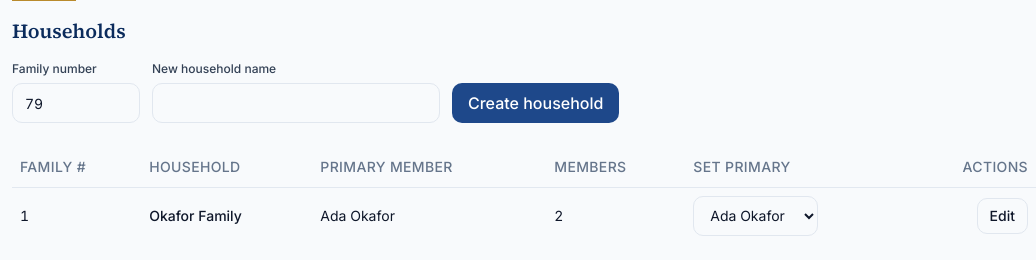
Test: HouseholdsPage › leaves the row unchanged when the edit is cancelled
Click the button with aria-label "edit okafor family". click: coordinates (1002, 216)
box: 977,198 -> 1028,234
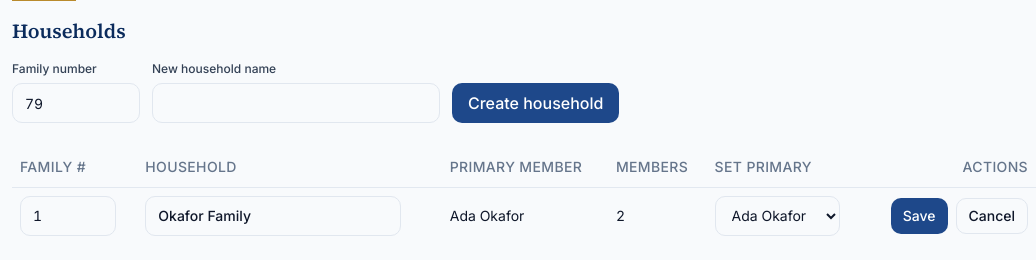
Replace the text in the field named "household name for okafor family" with "Typo". click: coordinates (273, 216)
box: 145,196 -> 401,236
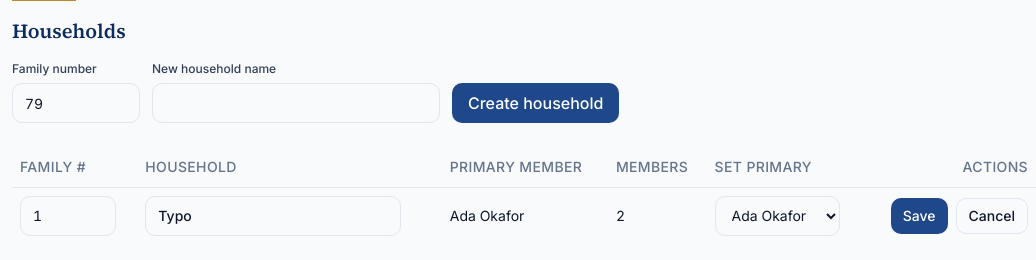
Click the button "Cancel". click: coordinates (992, 216)
box: 956,198 -> 1028,234
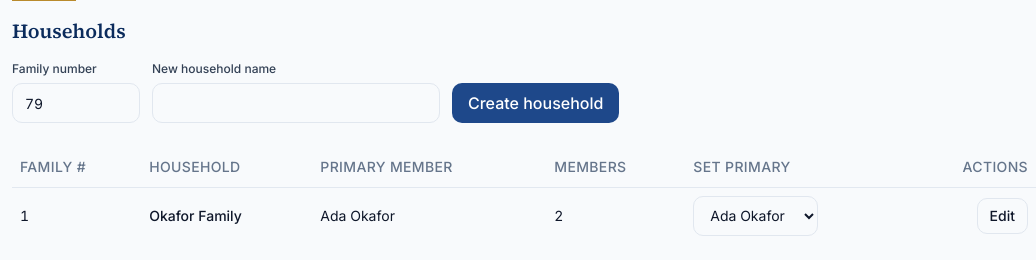
Expected: the text "Okafor Family" is shown, 141,187 -> 312,244
